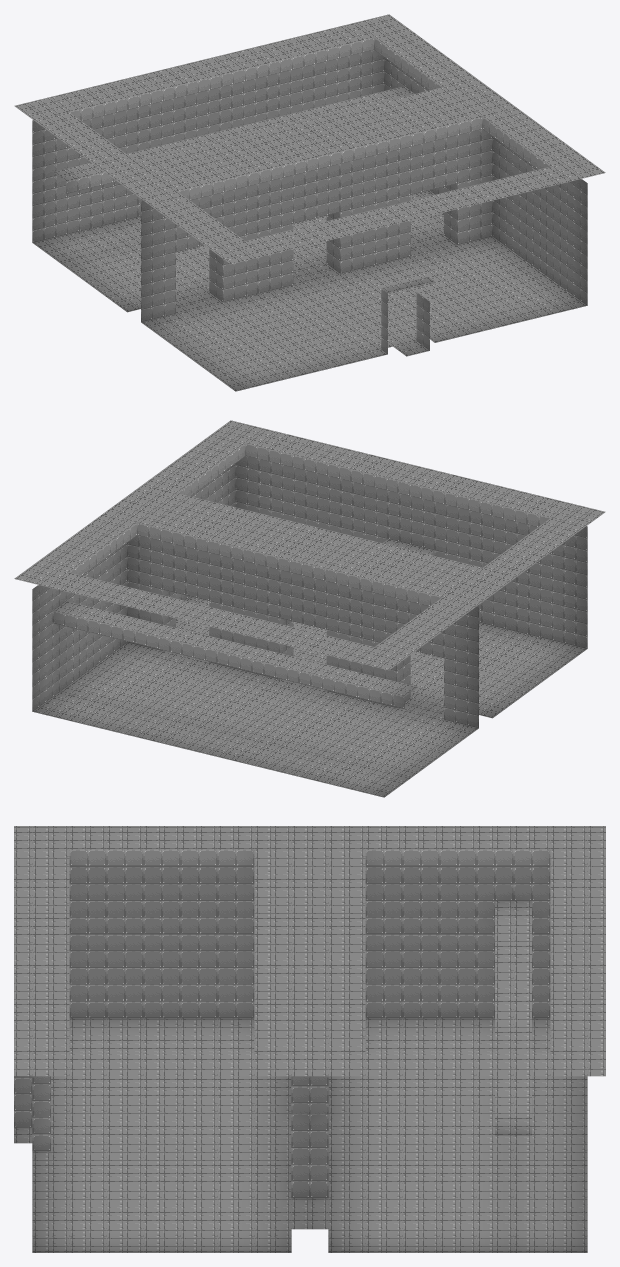
File: lab.glb
The picture shows the model from 3 angles, top to bottom: view 1: azimuth 30°, elevation 25°; view 2: azimuth 150°, elevation 25°; view 3: azimuth 270°, elevation 25°; orthographic projection. The views are drawn at different scales.
Size of the model in its own units: 32 by 11 by 32.
Materials: 1 (1 with a texture image).
